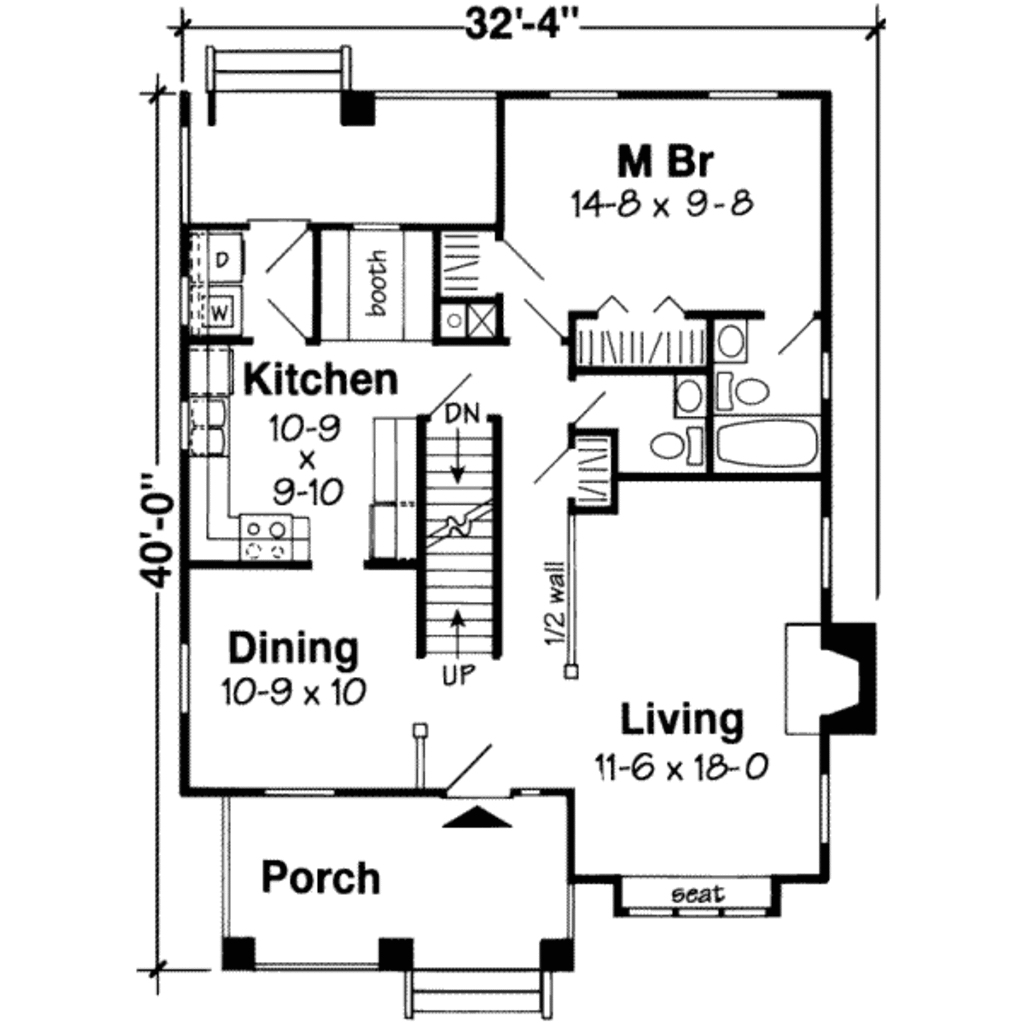large_sink: (641, 424, 714, 478), (716, 361, 777, 410)
small_sink: (664, 372, 706, 422), (718, 320, 748, 368)
stairs: (430, 414, 509, 674), (191, 39, 367, 103), (403, 958, 560, 1024)
tub: (714, 410, 823, 478)
twin_sink: (181, 399, 238, 464)
window: (263, 775, 344, 808), (816, 516, 841, 600), (173, 639, 200, 713), (547, 80, 623, 105), (816, 350, 842, 405), (708, 89, 777, 97)
